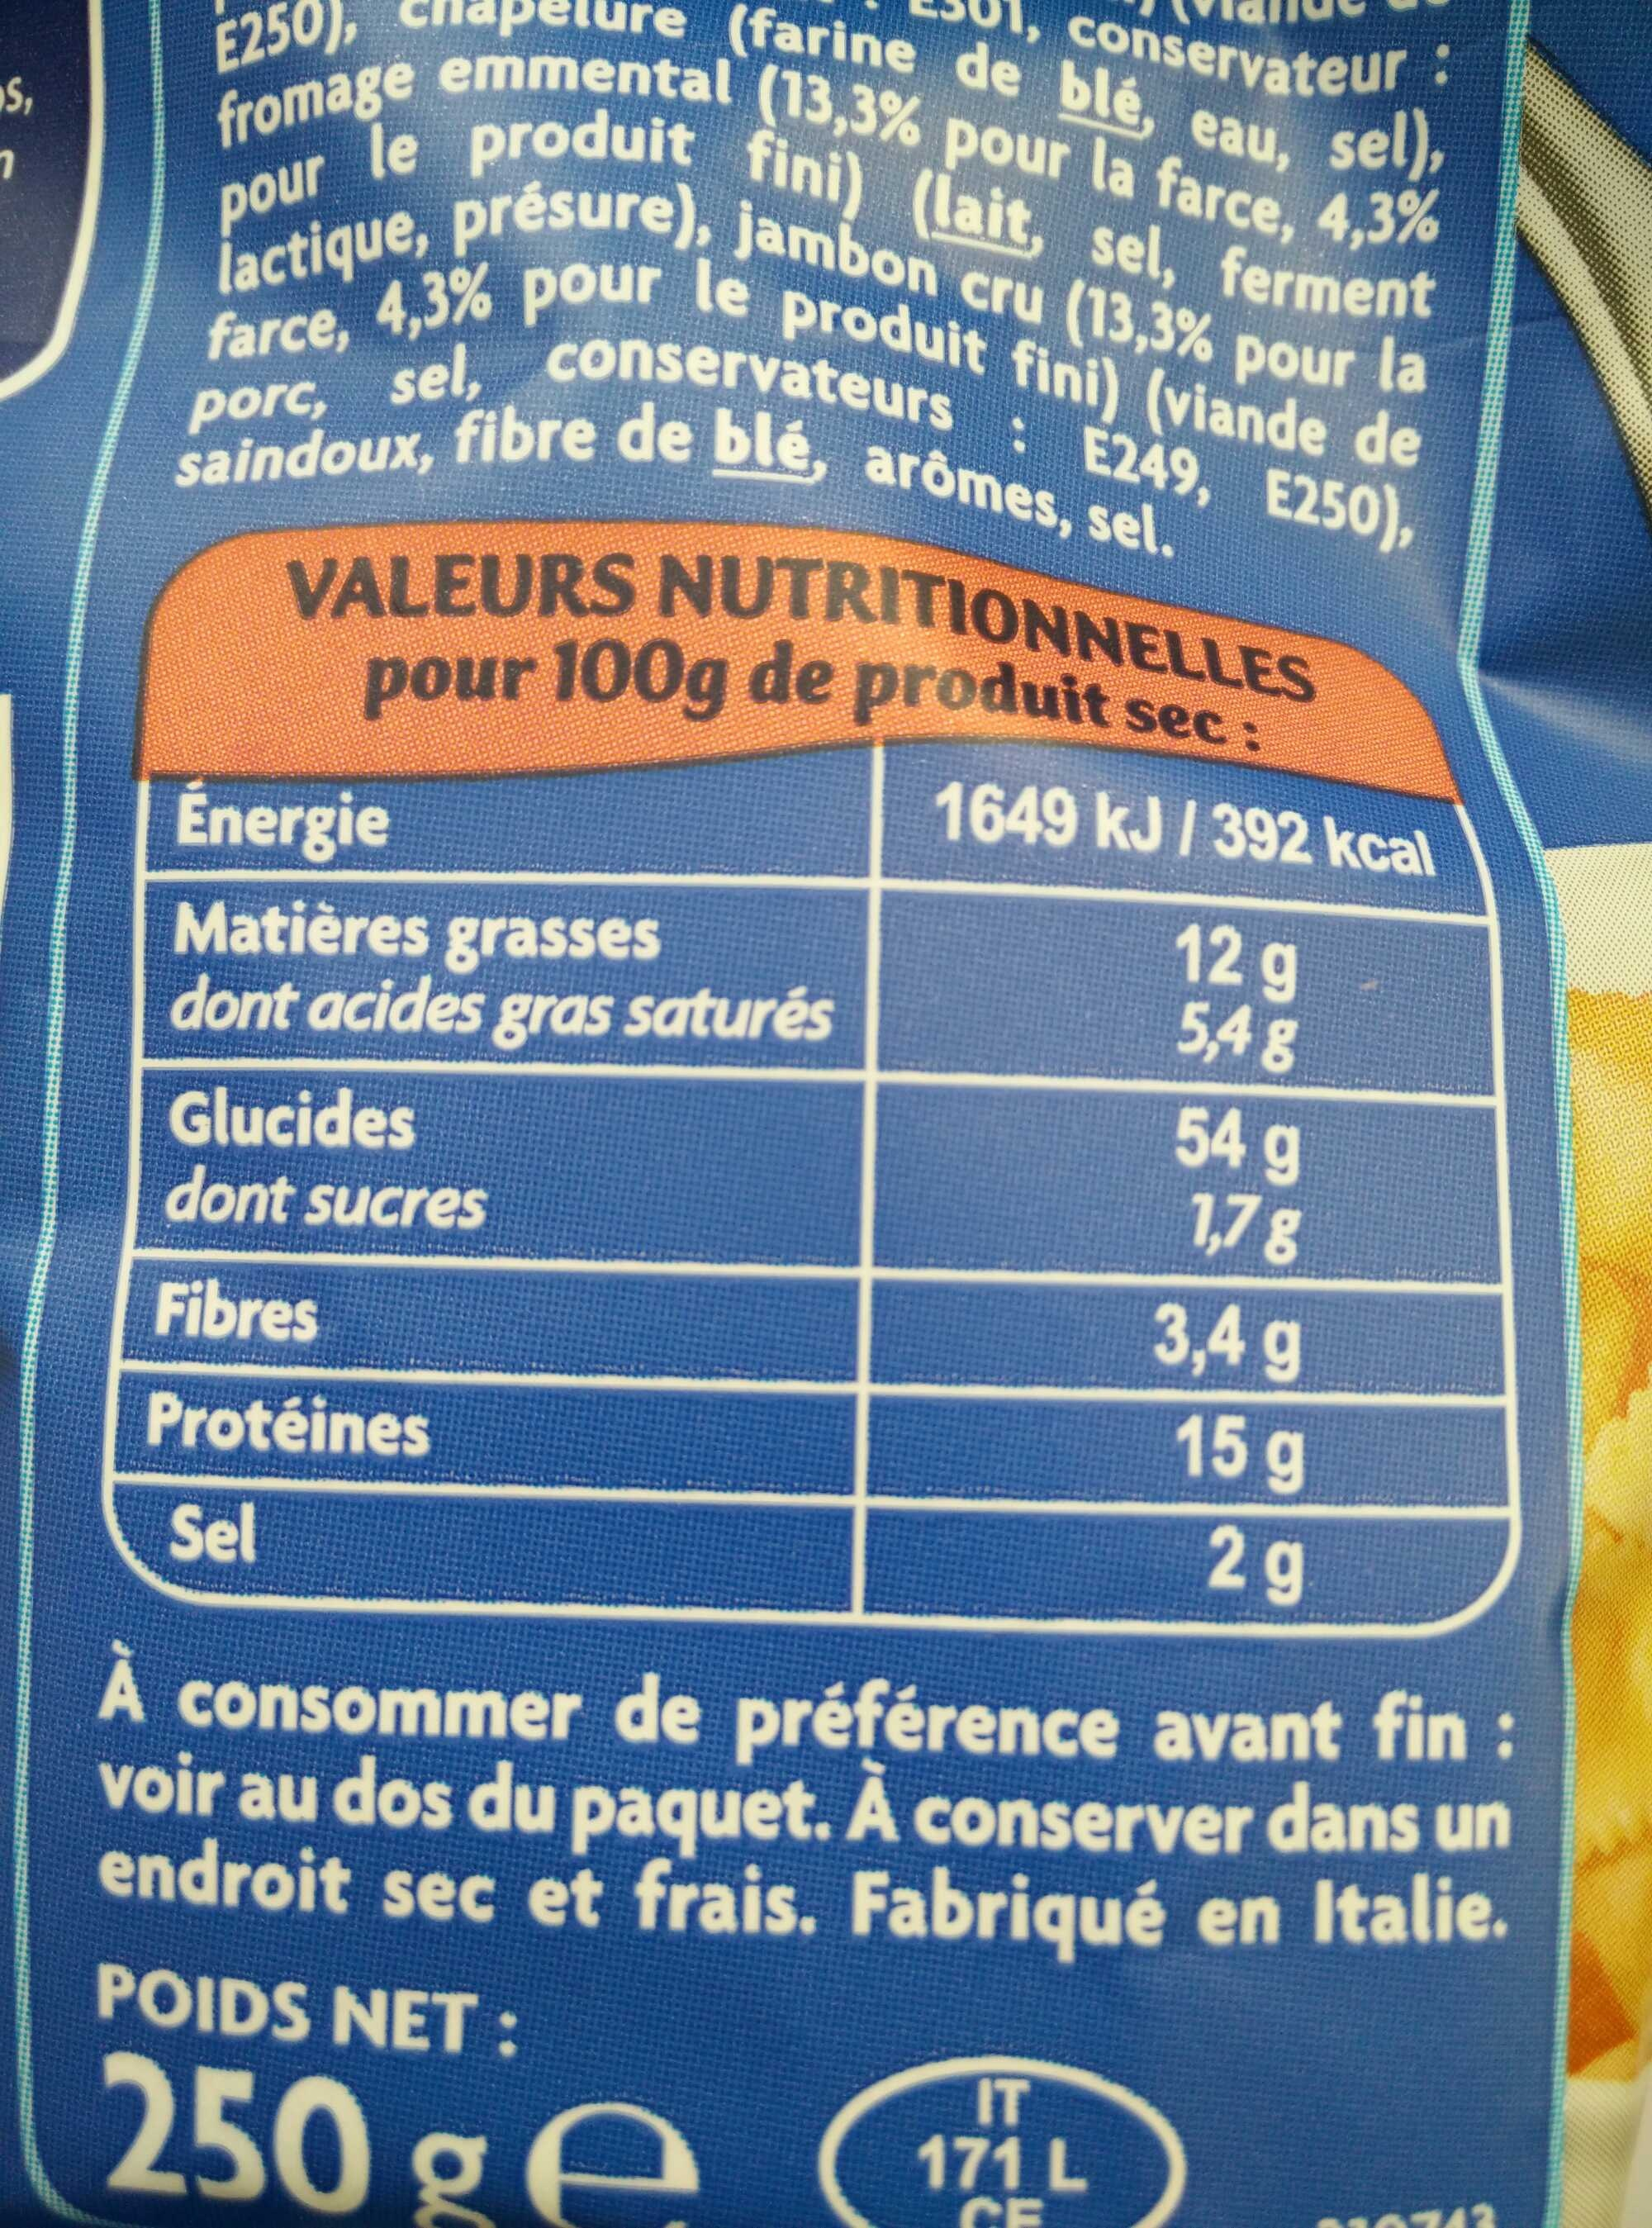column: (153, 746, 855, 1622), (930, 737, 1458, 1622)
table: (115, 531, 1515, 1652)
